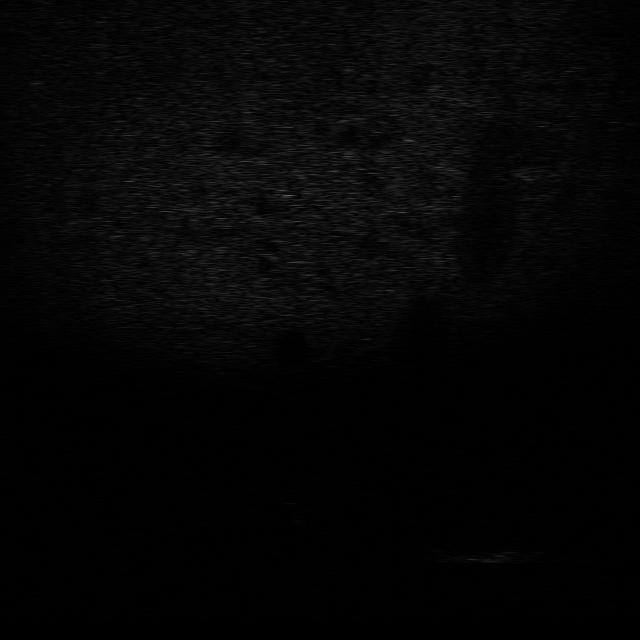ball: (270, 484, 310, 504)
metal bucket: (451, 542, 539, 565)
tyre: (394, 513, 450, 543)
